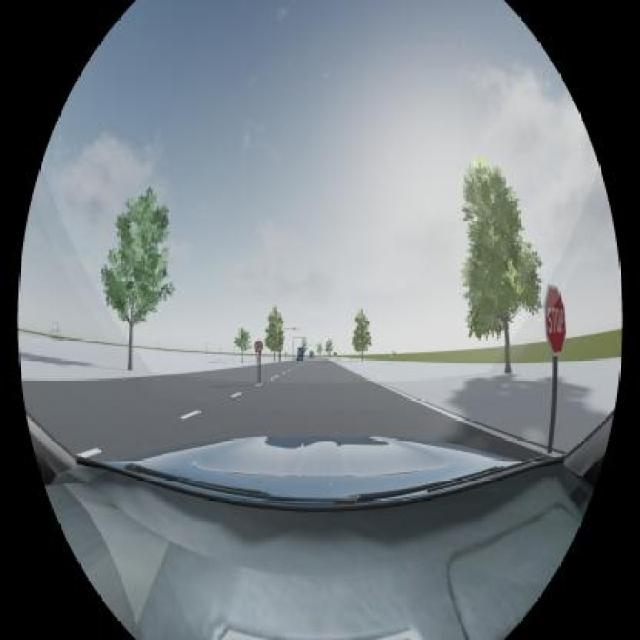forb_speed_over_20: (253, 340, 264, 354)
